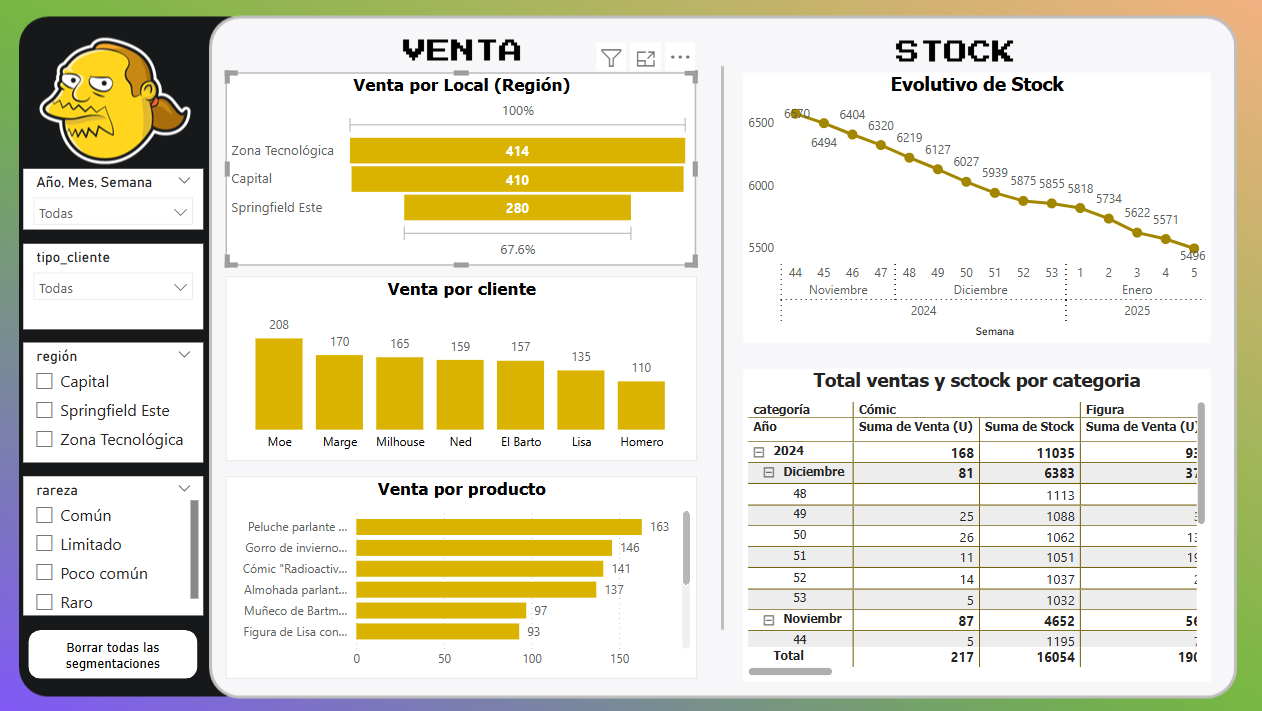

The page's visual inventory and layout, read from the dashboard file:
{"tool":"powerbi","page":{"name":"Página 1","canvas":[1280,720],"ordinal":0},"visuals":[{"type":"funnel","title":"Venta por Local (Región)","fields":{"Y":["Ventas.Venta (U)"],"Category":["Locales.región"]},"box":[238.4,72.7,470.9,193.1],"z":0},{"type":"clusteredColumnChart","title":"Venta por cliente","fields":{"Category":["Clientes.apodo"],"Y":["Ventas.Venta (U)"]},"box":[238.4,276.6,470.9,184.8],"z":1000},{"type":"clusteredBarChart","title":"Venta por producto","fields":{"Category":["Productos.nombre_articulo"],"Y":["Ventas.Venta (U)"]},"box":[238.4,476.8,470.9,202.6],"z":2000},{"type":"slicer","fields":{"Values":["Calendario.Año","Calendario.Mes","Calendario.Semana"]},"box":[35.8,169.3,180,60.8],"z":3000},{"type":"slicer","fields":{"Values":["Clientes.tipo_cliente"]},"box":[35.8,244.4,180,85.8],"z":4000},{"type":"slicer","fields":{"Values":["Locales.región"]},"box":[35.8,342.1,180,120.4],"z":5000},{"type":"slicer","fields":{"Values":["Productos.rareza"]},"box":[35.8,476.8,180,139.5],"z":6000},{"type":"lineChart","title":"Evolutivo de Stock","fields":{"Y":["Stock.Stock"],"Category":["Calendario.Año","Calendario.Mes","Calendario.Semana"]},"box":[756.2,72.5,467.5,270],"z":7000},{"type":"pivotTable","title":"Total ventas y sctock por categoria","fields":{"Rows":["Calendario.Año","Calendario.Mes","Calendario.Semana"],"Values":["Ventas.Venta (U)","Stock.Stock"],"Columns":["Productos.categoría"]},"box":[756.2,368.8,467.5,312.5],"z":8000},{"type":"actionButton","box":[41.7,630.6,169.3,48.9],"z":9000}]}

Visuals, with their boxes in screenshot pixels (x1, y1, x2, y2), scaled from the page's 1280x720 canvas onto the 1262x711 screenshot:
"Venta por Local (Región)" funnel: bbox(235, 72, 699, 262)
"Venta por cliente" clusteredColumnChart: bbox(235, 273, 699, 456)
"Venta por producto" clusteredBarChart: bbox(235, 471, 699, 671)
slicer - Calendario.Año x Calendario.Mes: bbox(35, 167, 213, 227)
slicer - Clientes.tipo_cliente: bbox(35, 241, 213, 326)
slicer - Locales.región: bbox(35, 338, 213, 457)
slicer - Productos.rareza: bbox(35, 471, 213, 609)
"Evolutivo de Stock" lineChart: bbox(746, 72, 1206, 338)
"Total ventas y sctock por categoria" pivotTable: bbox(746, 364, 1206, 673)
actionButton: bbox(41, 623, 208, 671)
